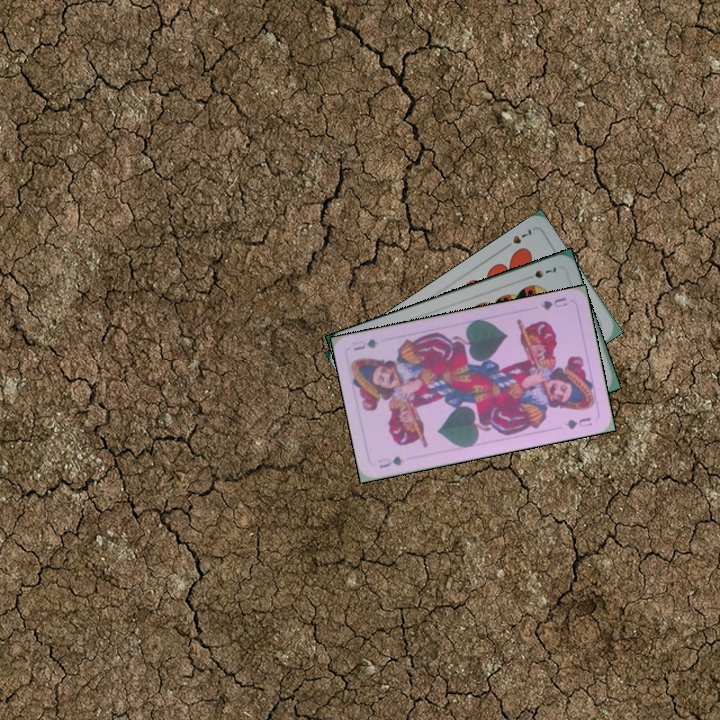GU: (537, 293, 570, 313), (374, 452, 407, 471)
H7: (499, 225, 534, 252)
S7: (521, 262, 561, 282)
